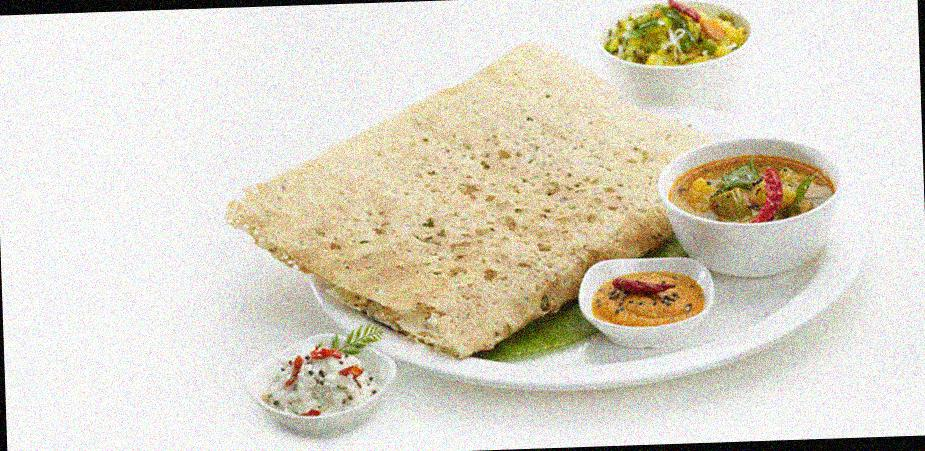dosa: (219, 43, 707, 345)
